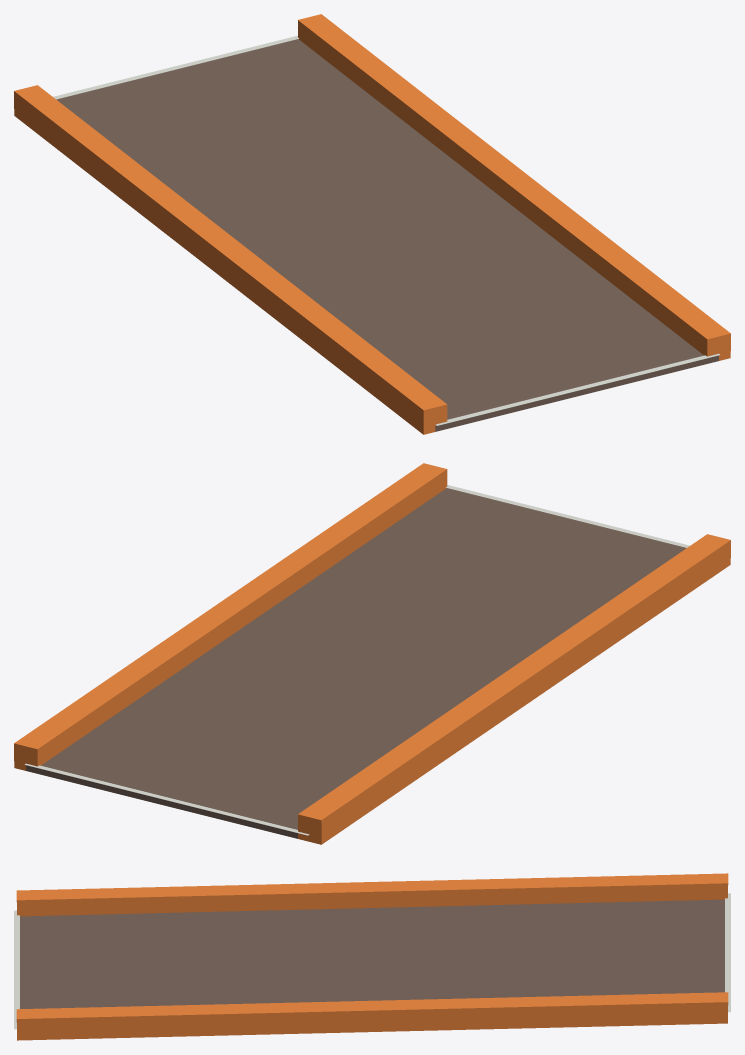
The model's file is SM_MP_Film_C_1_1.fbx.
3 renders of one model, top to bottom at view 1: azimuth 30°, elevation 25°; view 2: azimuth 150°, elevation 25°; view 3: azimuth 270°, elevation 25°, orthographic. The views are drawn at different scales.
Visible parts, largest first — view 1: SM_MP_Film_C_1_1; view 2: SM_MP_Film_C_1_1; view 3: SM_MP_Film_C_1_1.
Boxes of the visible parts, x1,y1,x2,y2 form: SM_MP_Film_C_1_1: [14, 14, 730, 434]; SM_MP_Film_C_1_1: [14, 463, 730, 844]; SM_MP_Film_C_1_1: [14, 873, 730, 1040].
Size of what is drawn, in the model's own units: 260 by 605 by 37.33.
